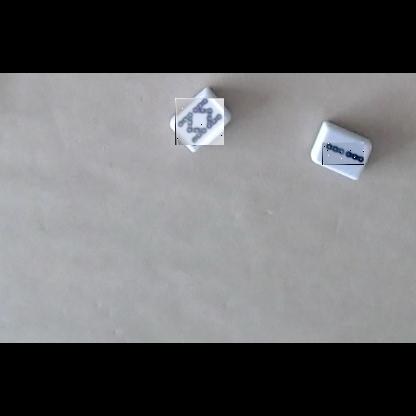2s: (322, 142, 364, 165)
8s: (175, 98, 224, 145)
